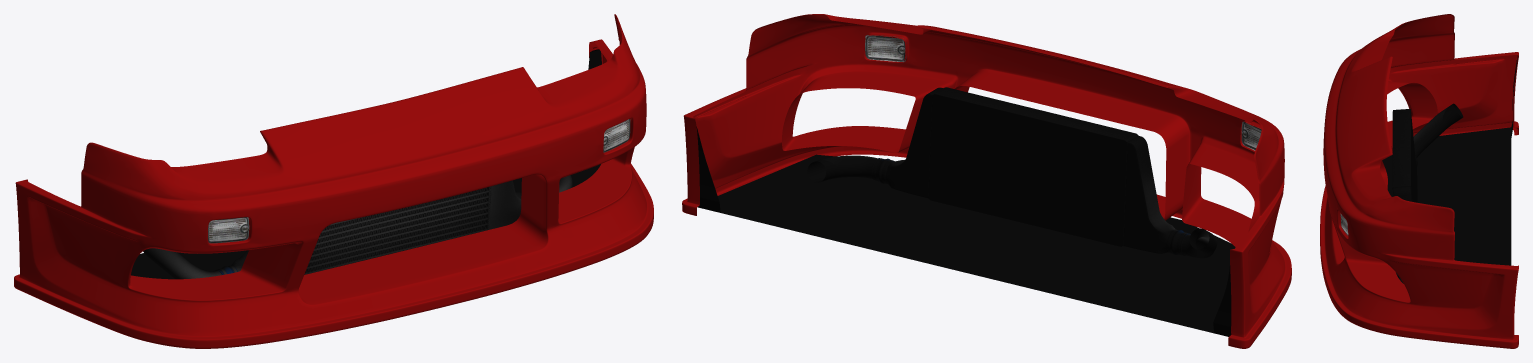
Rendered from frontbumper_carmodifywonderglare.glb.
The picture shows the model from 3 angles, left to right: view 1: azimuth 30°, elevation 25°; view 2: azimuth 150°, elevation 25°; view 3: azimuth 270°, elevation 25°; orthographic projection. The views are drawn at different scales.
Visible parts, largest first — view 1: Bumper, Intercooler, Undercarriage, Lamps; view 2: Bumper, Undercarriage, Intercooler, Lamps; view 3: Bumper, Undercarriage, Intercooler.
Part boxes in pixels (<box>): Bumper: <box>14,14,653,348</box>; Intercooler: <box>143,175,572,279</box>; Undercarriage: <box>131,49,601,279</box>; Lamps: <box>208,119,630,243</box>; Bumper: <box>682,14,1291,348</box>; Undercarriage: <box>696,127,1235,336</box>; Intercooler: <box>807,87,1217,258</box>; Lamps: <box>865,35,1261,150</box>; Bumper: <box>1320,14,1518,348</box>; Undercarriage: <box>1382,60,1517,275</box>; Intercooler: <box>1392,103,1463,283</box>.
Size of the model in its own units: 1.72 by 0.4866 by 0.6529.
5 materials, 2 textured.
